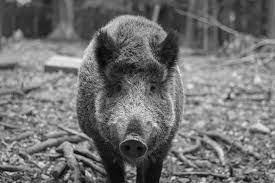wildboar: (76, 14, 186, 183)
